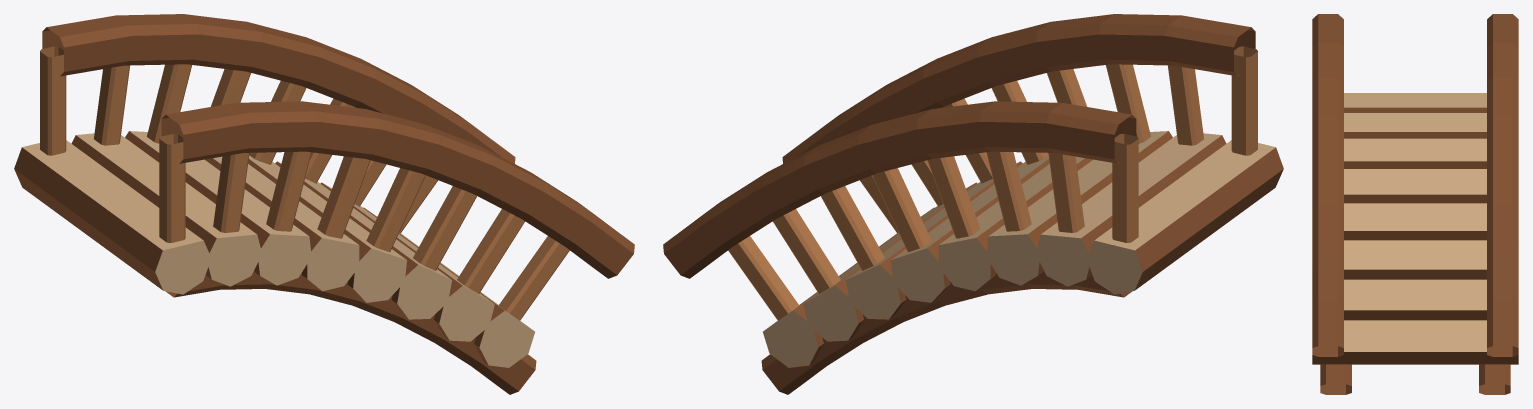
The model's file is Track_Bridge_Incline_Sharp_Flat_Floating.obj.
3 renders of one model, left to right at view 1: azimuth 30°, elevation 25°; view 2: azimuth 150°, elevation 25°; view 3: azimuth 270°, elevation 25°, orthographic. The views are drawn at different scales.
Parts seen in each view (by area): view 1: Bridge_Rail, Bridge_Rail_Support, Log_Plank_End, Log_Plank_Top, Log_Plank_Bark, Bridge_Support_Beam; view 2: Bridge_Rail, Bridge_Rail_Support, Log_Plank_End, Log_Plank_Top, Log_Plank_Bark, Bridge_Support_Beam; view 3: Log_Plank_Top, Bridge_Rail, Log_Plank_Bark, Bridge_Support_Beam.
Boxes of the visible parts, x1,y1,x2,y2 form: Bridge_Rail: [42, 14, 634, 278]; Bridge_Rail_Support: [40, 46, 569, 320]; Log_Plank_End: [155, 234, 534, 367]; Log_Plank_Top: [22, 131, 530, 328]; Log_Plank_Bark: [14, 131, 504, 364]; Bridge_Support_Beam: [166, 270, 536, 394]; Bridge_Rail: [663, 14, 1255, 278]; Bridge_Rail_Support: [728, 46, 1257, 320]; Log_Plank_End: [763, 234, 1142, 367]; Log_Plank_Top: [767, 131, 1275, 328]; Log_Plank_Bark: [793, 131, 1283, 364]; Bridge_Support_Beam: [761, 270, 1131, 394]; Log_Plank_Top: [1344, 93, 1486, 351]; Bridge_Rail: [1312, 14, 1518, 356]; Log_Plank_Bark: [1312, 107, 1518, 364]; Bridge_Support_Beam: [1320, 364, 1510, 394].
Size of the model in its own units: 2.57 by 1.81 by 1.3.
